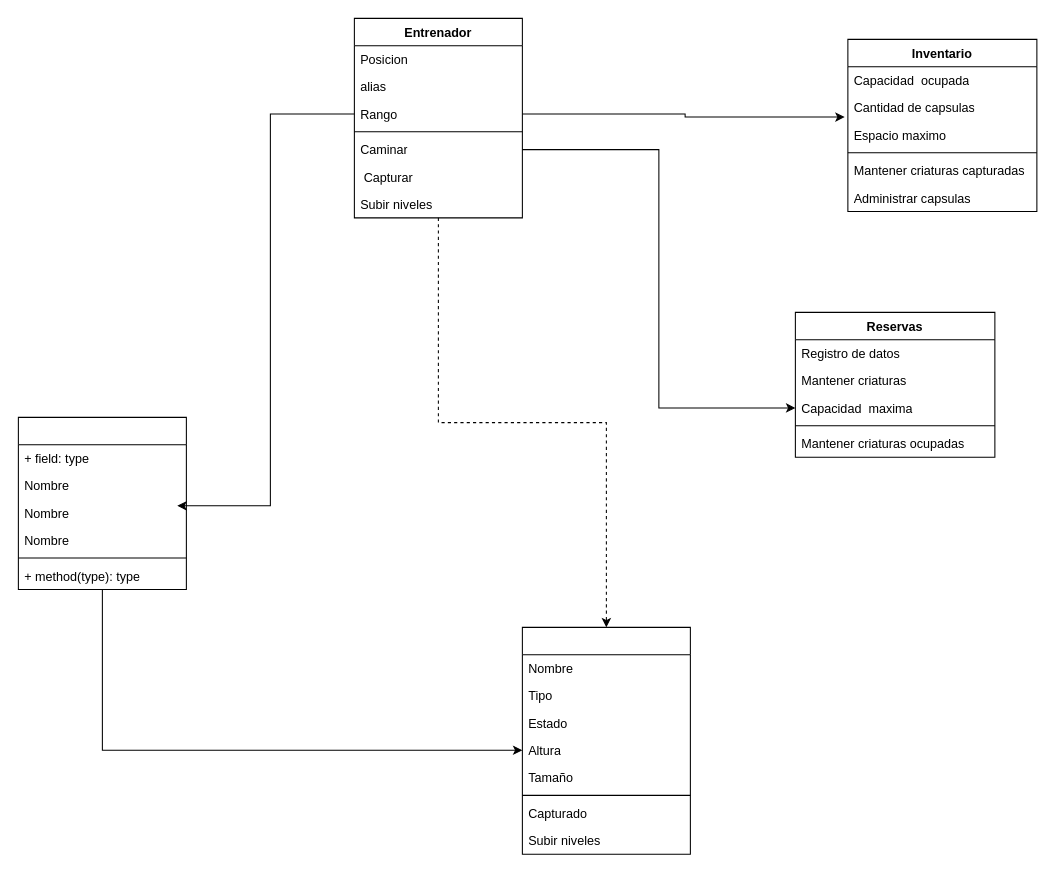
The diagram is 1055 pixels wide and 876 high, and some of its shapes have lost their labels. The box of each missing label's shape, as (x1, y1, x2, y2) in pixels:
Criaturas - Pokemones: (521, 626, 690, 854)
Equipo: (17, 416, 186, 590)
